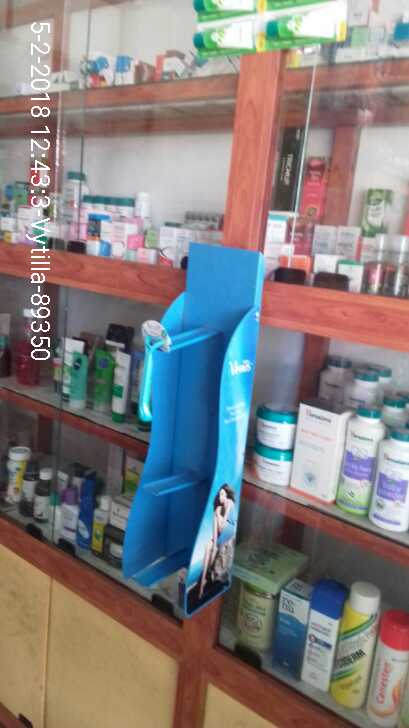reject: (122, 283, 236, 393)
